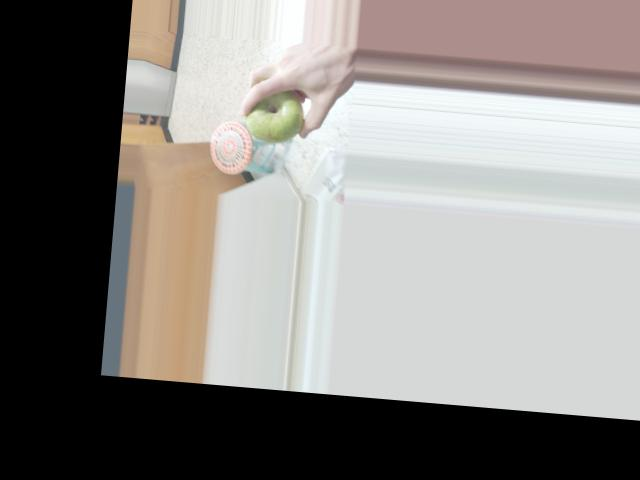apple: (240, 80, 309, 147)
